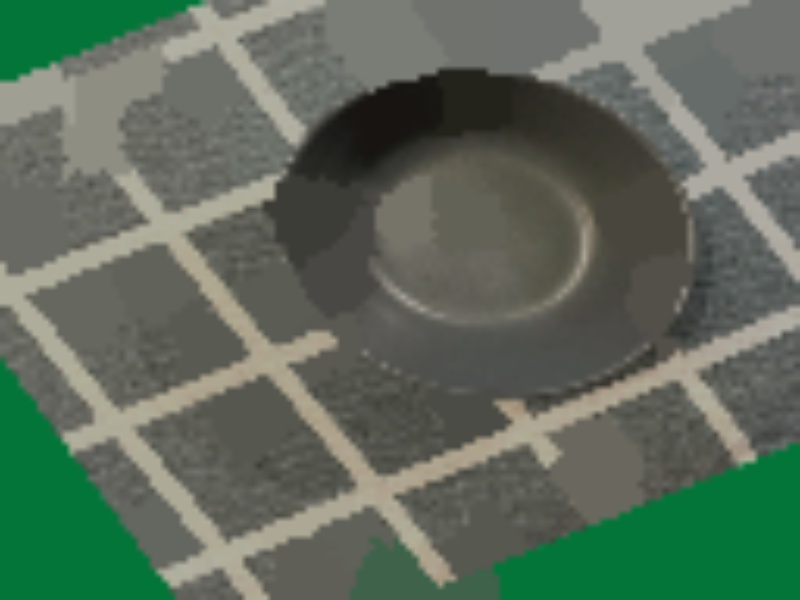bowl_big: (183, 0, 799, 471)
